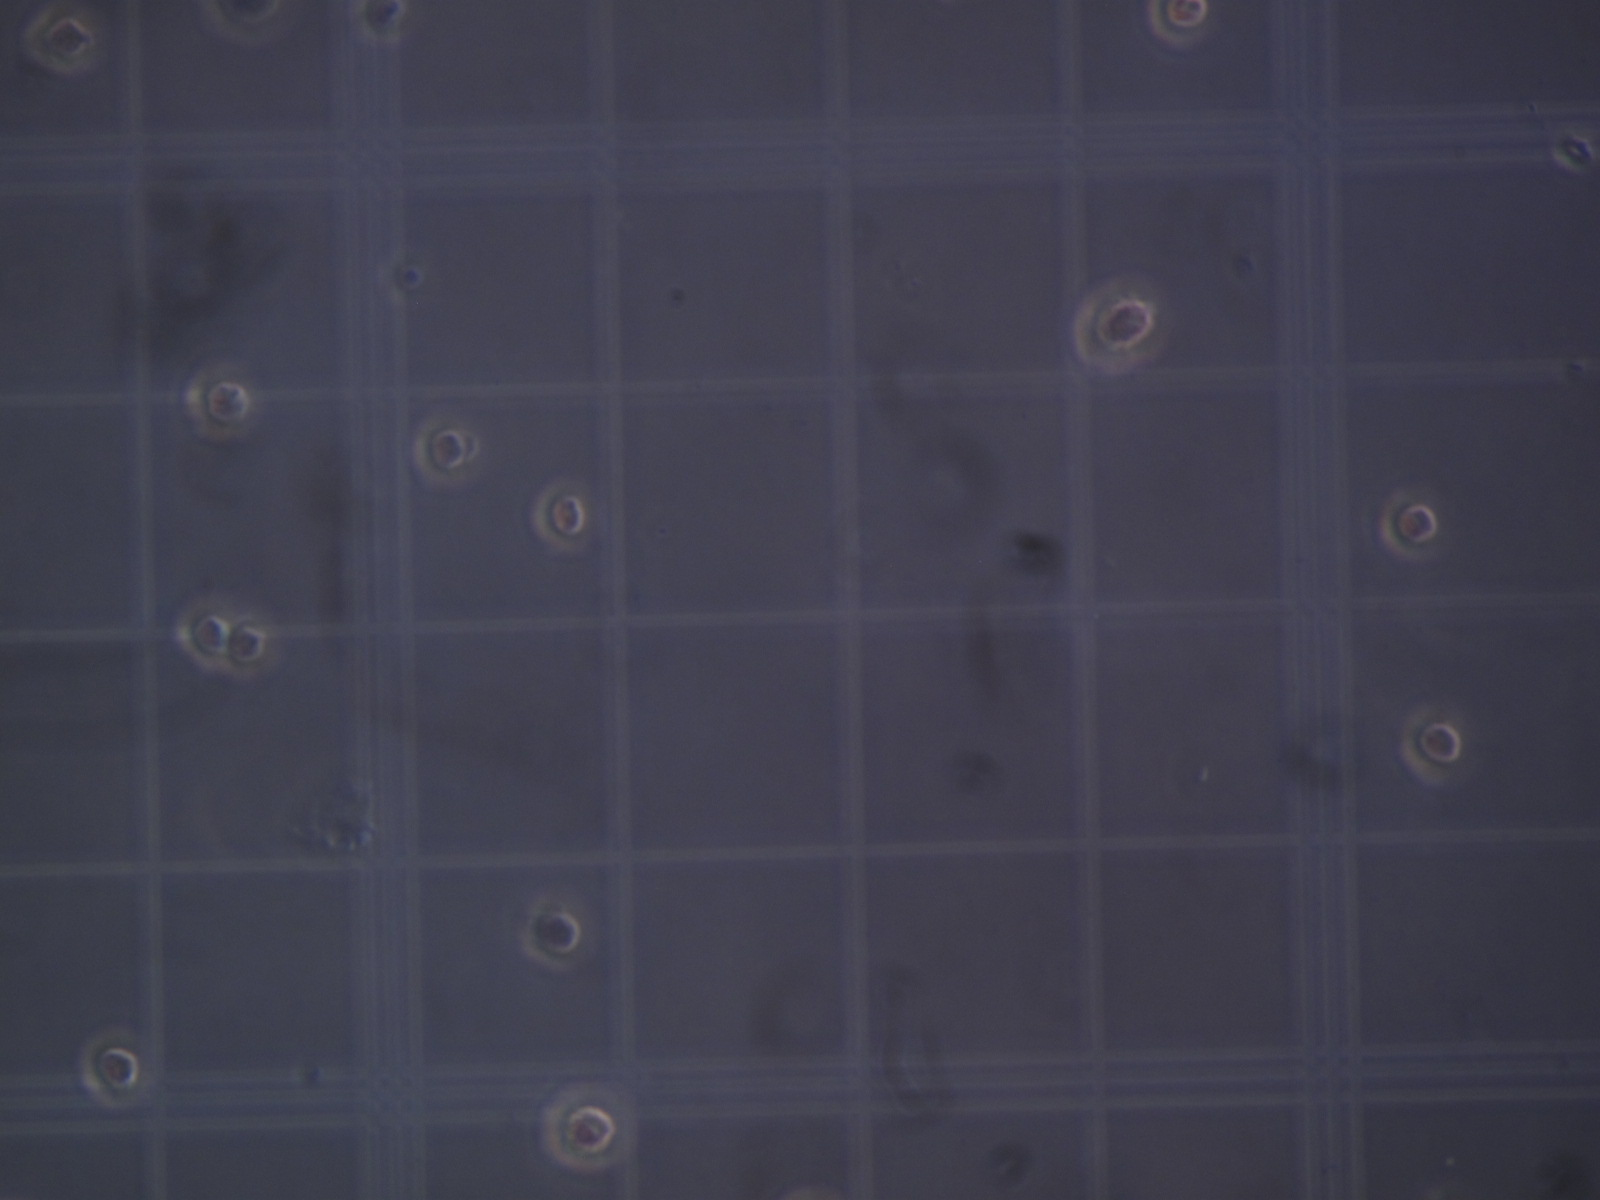hemo: (1071, 277, 1167, 372), (540, 1087, 626, 1172), (184, 364, 251, 441), (79, 1029, 142, 1109), (1398, 707, 1461, 785), (21, 8, 94, 74), (522, 897, 585, 971), (412, 416, 474, 487), (530, 480, 590, 553), (1378, 492, 1437, 562), (175, 599, 231, 671), (203, 1, 290, 45), (224, 614, 273, 679), (1146, 3, 1211, 47), (355, 1, 409, 44)
